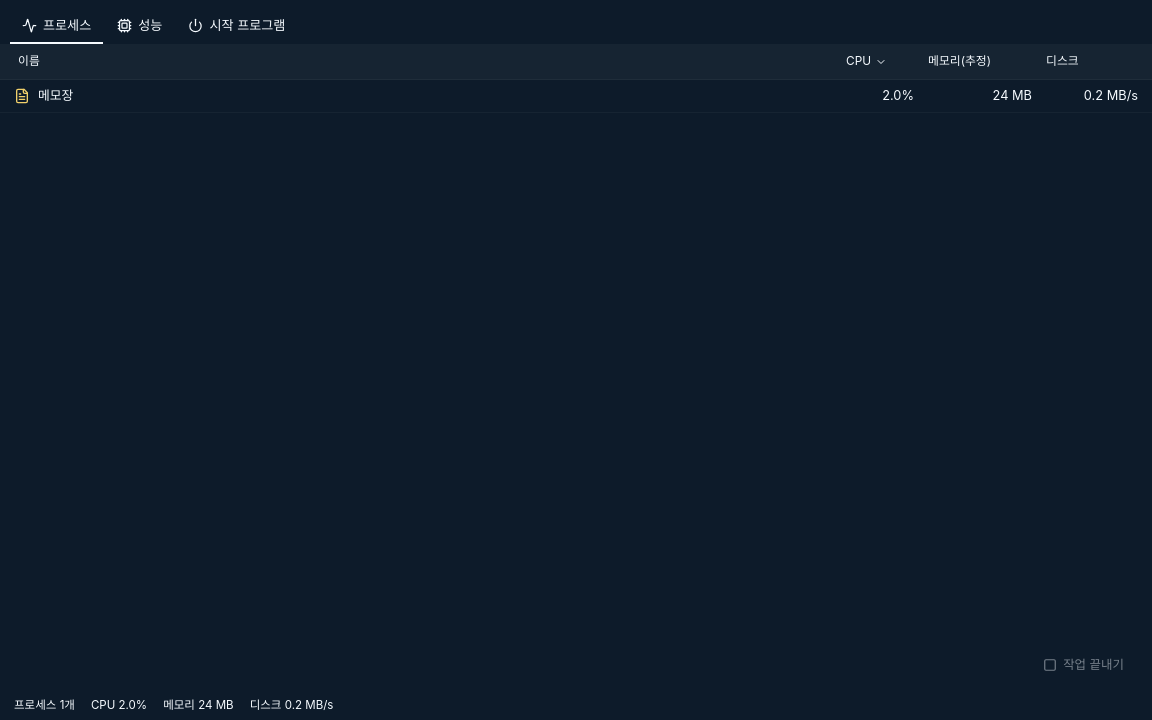
it: TaskManagerApp 성능 탭 › 성능 탭으로 바꾸면 CPU와 메모리 그래프를 그린다
Click the tab "성능".
click(140, 26)  # box [105, 8, 174, 44]
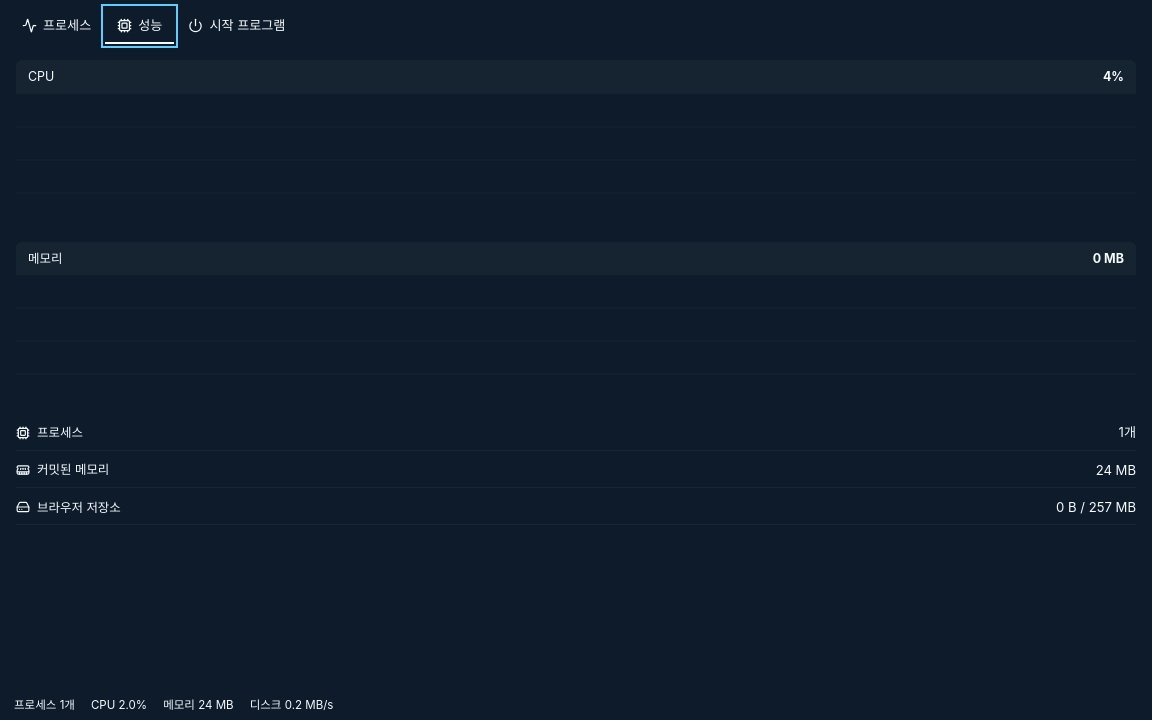
expect the table is gone: met
